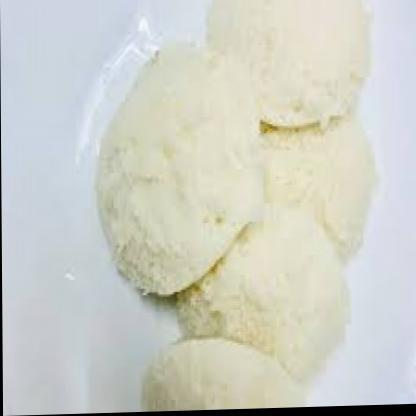idli: (96, 41, 263, 297), (177, 203, 350, 389), (205, 0, 370, 131), (260, 114, 376, 271), (140, 337, 306, 413)
